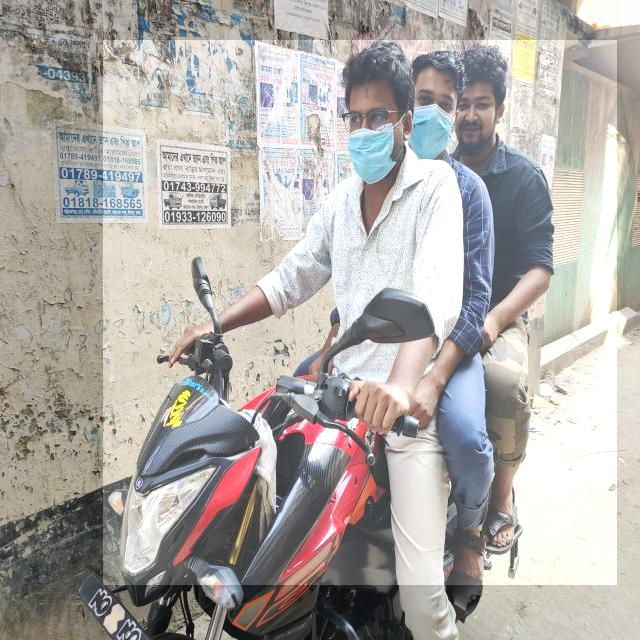Overloading: (103, 40, 618, 585)
